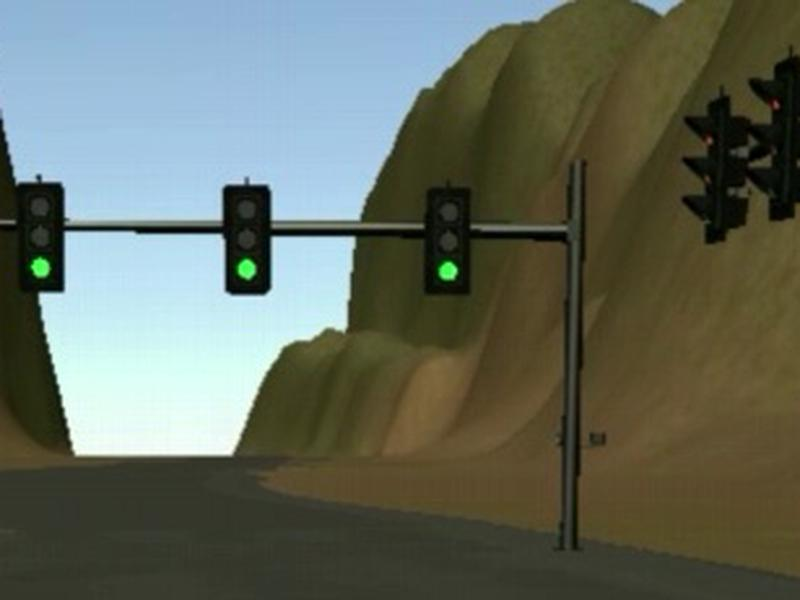Green: (222, 184, 272, 297), (15, 182, 66, 292), (425, 188, 471, 297)
